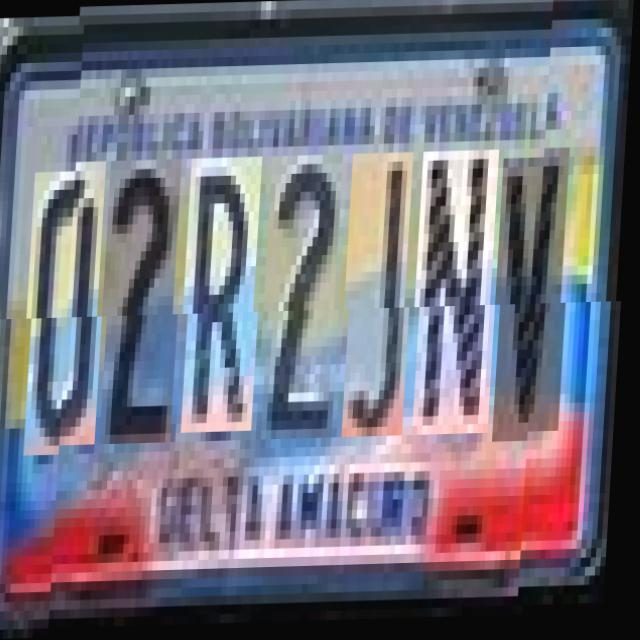0: (29, 162, 113, 447)
2: (266, 156, 350, 442), (105, 160, 189, 445)
J: (346, 154, 421, 440)
N: (417, 153, 506, 438)
R: (186, 158, 270, 434)
V: (498, 160, 577, 445)
